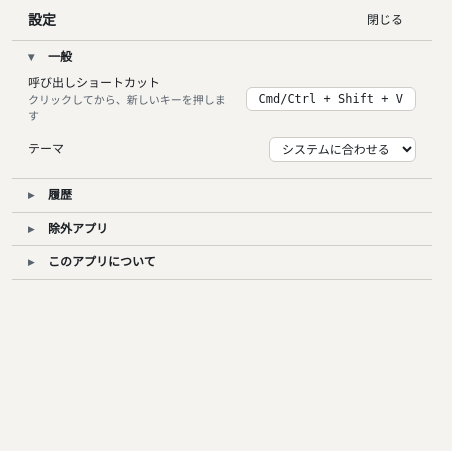
Test: SettingsWindow › 履歴の上限 › 0 を入力すると、エラーを表示し、設定を変更しない
Click the button "▸ 履歴".
click(31, 194)  # box [12, 179, 432, 212]
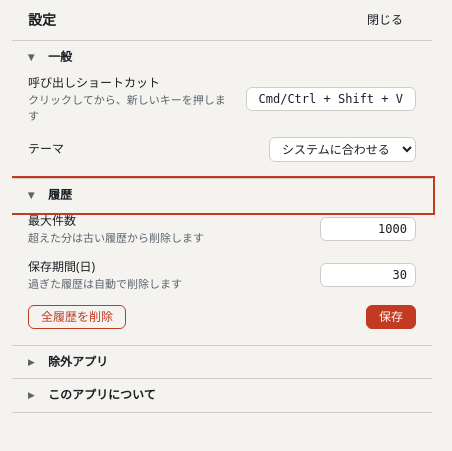
Replace the text in the field labelled "最大件数" with "0" at (368, 229), box [320, 217, 416, 241]
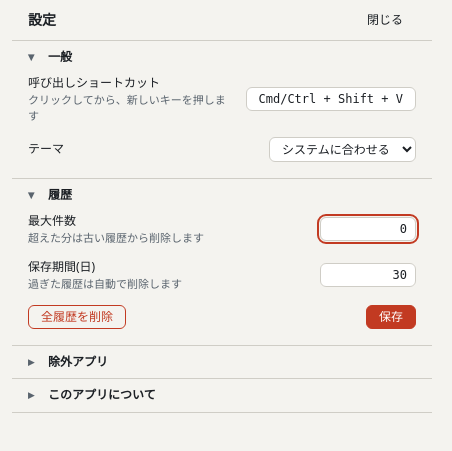
Click the button "保存".
click(391, 317)  # box [366, 305, 416, 329]
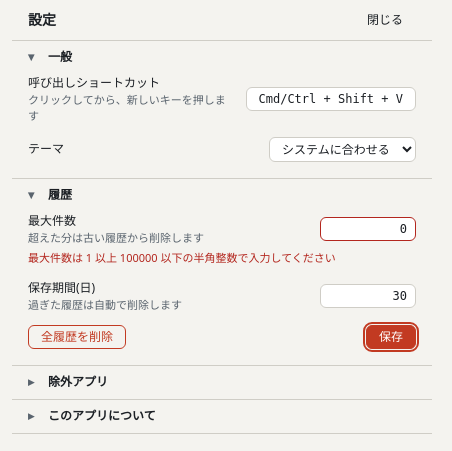
Now the message shows "最大件数", box [28, 250, 336, 265]
